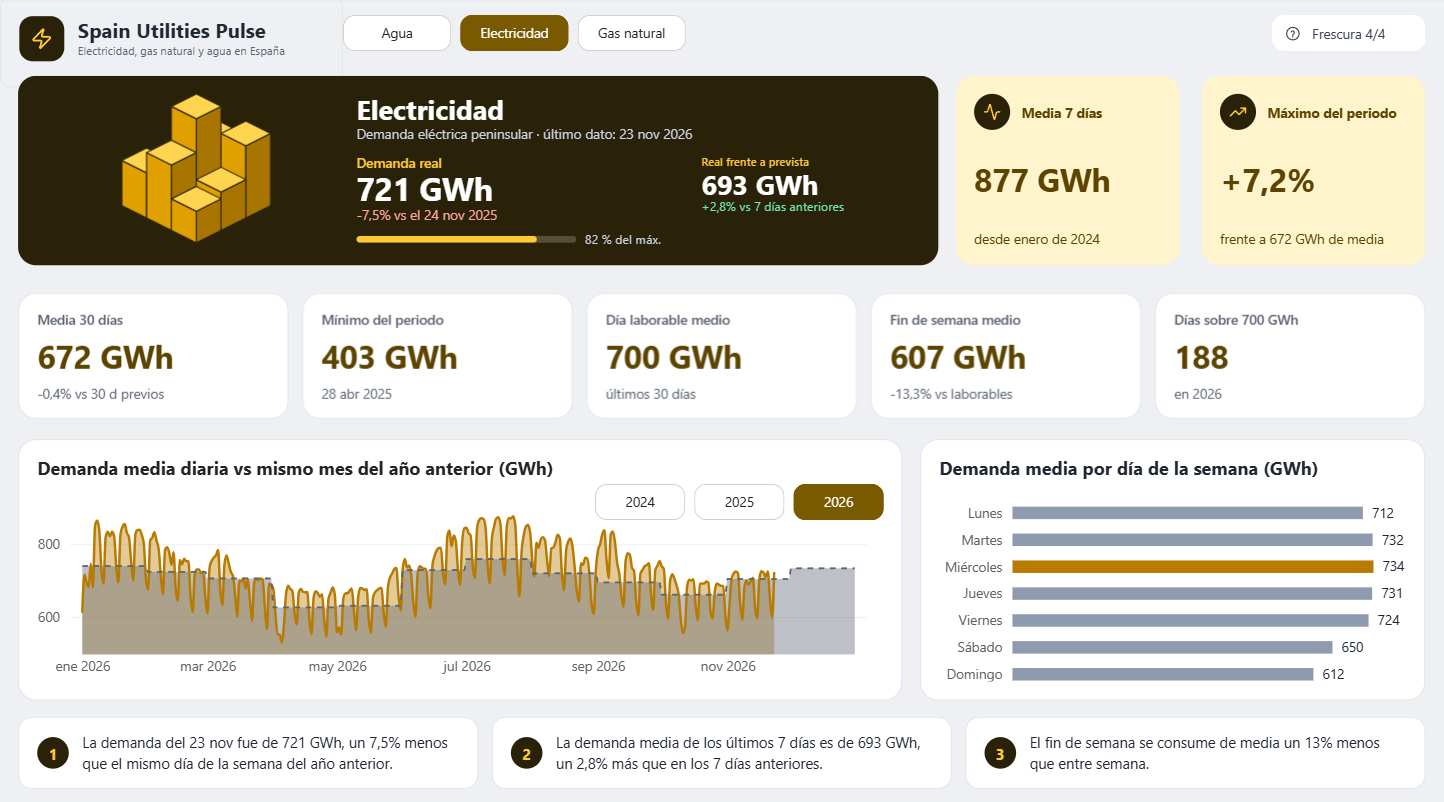

This screenshot's page, from the dashboard's own definition file:
{"tool":"powerbi","page":{"name":"Home","canvas":[1280,720],"ordinal":0},"visuals":[{"type":"htmlContent443BE3AD55E043BF878BED274D3A6855","fields":{"content":["Sector.HTML Título"]},"box":[0,0,304,80],"z":0},{"type":"actionButton","box":[1128,16,136,32],"z":1000},{"type":"htmlContent443BE3AD55E043BF878BED274D3A6855","fields":{"content":["Sector.HTML Laterales"]},"box":[832,56,448,200],"z":2000},{"type":"htmlContent443BE3AD55E043BF878BED274D3A6855","fields":{"content":["Sector.HTML Banner"]},"box":[0,56,848,200],"z":3000},{"type":"barChart","fields":{"Category":["Barras.Etiqueta"],"Y":["Medidas.Barra Valor"]},"box":[816,392,448,232],"z":5000},{"type":"lineChart","fields":{"Category":["dim_fecha.fecha"],"Y":["Medidas.Línea Elec","Medidas.Línea Gas","Medidas.Línea Agua","Medidas.Línea Ref"]},"box":[16,392,784,232],"z":6000},{"type":"htmlContent443BE3AD55E043BF878BED274D3A6855","fields":{"content":["Sector.HTML Claves"]},"box":[0,624,1280,96],"z":7000},{"type":"htmlContent443BE3AD55E043BF878BED274D3A6855","fields":{"content":["Sector.HTML Indicadores"]},"box":[0,248,1280,144],"z":8000},{"type":"advancedSlicerVisual","fields":{"Values":["Sector.Sector"]},"box":[304,16,304,32],"z":10000},{"type":"advancedSlicerVisual","fields":{"Values":["dim_fecha.anio"]},"box":[528,432,256,32],"z":12000}]}

Visuals, with their boxes in screenshot pixels (x1, y1, x2, y2), scaled from the page's 1280x720 canvas onto the 1444x802 screenshot:
htmlContent443BE3AD55E043BF878BED274D3A6855 - Sector.HTML Título: select_region(0, 0, 343, 89)
actionButton: select_region(1273, 18, 1426, 53)
htmlContent443BE3AD55E043BF878BED274D3A6855 - Sector.HTML Laterales: select_region(939, 62, 1443, 285)
htmlContent443BE3AD55E043BF878BED274D3A6855 - Sector.HTML Banner: select_region(0, 62, 957, 285)
barChart - Barras.Etiqueta x Medidas.Barra Valor: select_region(921, 437, 1426, 695)
lineChart - dim_fecha.fecha x Medidas.Línea Elec: select_region(18, 437, 902, 695)
htmlContent443BE3AD55E043BF878BED274D3A6855 - Sector.HTML Claves: select_region(0, 695, 1443, 801)
htmlContent443BE3AD55E043BF878BED274D3A6855 - Sector.HTML Indicadores: select_region(0, 276, 1443, 437)
advancedSlicerVisual - Sector.Sector: select_region(343, 18, 686, 53)
advancedSlicerVisual - dim_fecha.anio: select_region(596, 481, 884, 517)
